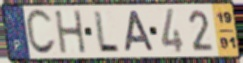2: (187, 9, 216, 53)
4: (160, 7, 186, 56)
A: (123, 9, 156, 53)
C: (24, 8, 58, 58)
H: (53, 9, 88, 56)
L: (92, 10, 121, 54)
